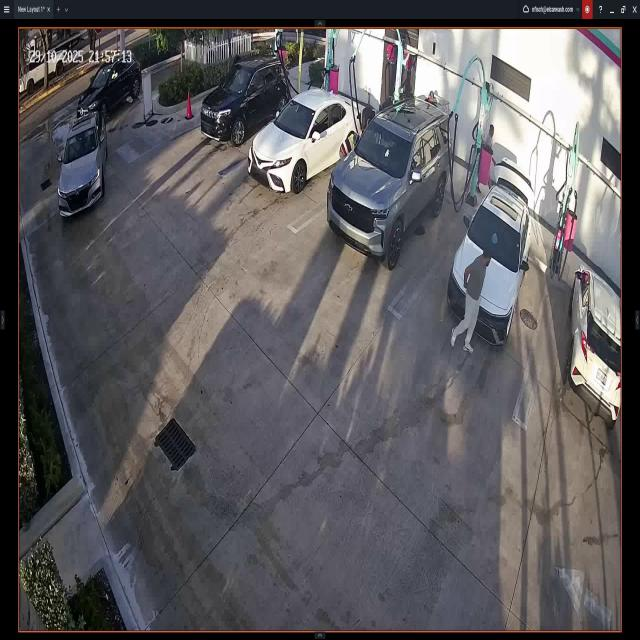Car: (329, 101, 450, 270), (451, 162, 531, 348), (245, 86, 362, 192), (572, 266, 620, 422), (200, 58, 288, 142), (57, 112, 107, 218), (69, 52, 141, 122)
